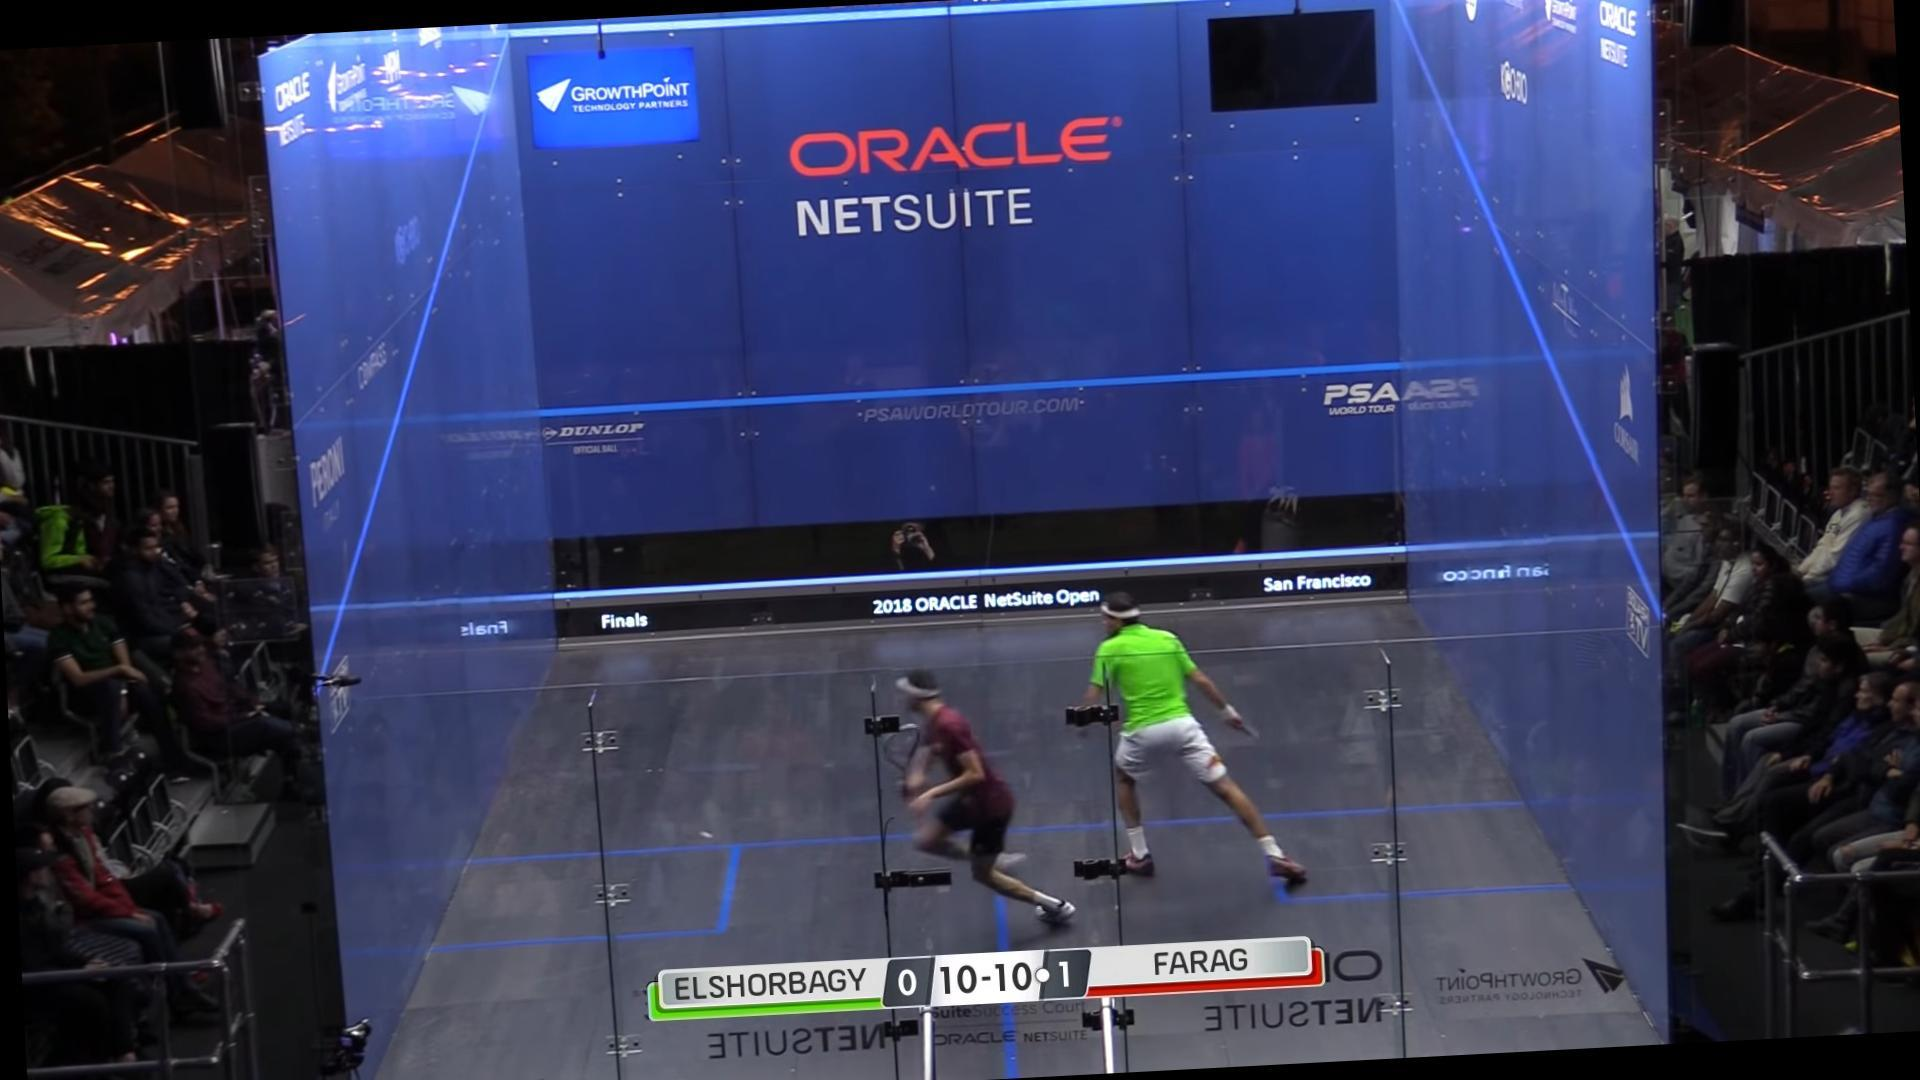Squash-Ball: (695, 823, 713, 843)
